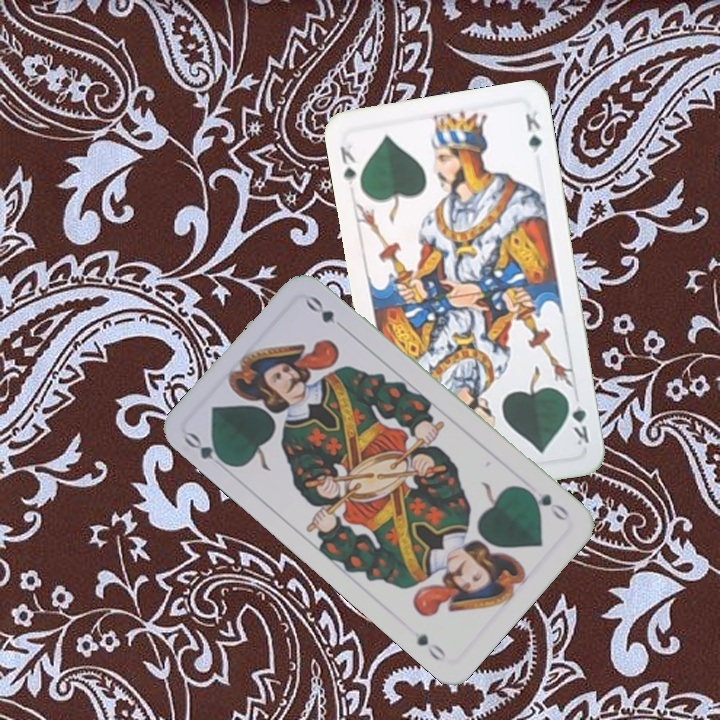GK: (563, 392, 592, 448), (336, 142, 359, 188)
GO: (180, 428, 234, 469), (521, 484, 572, 525)
